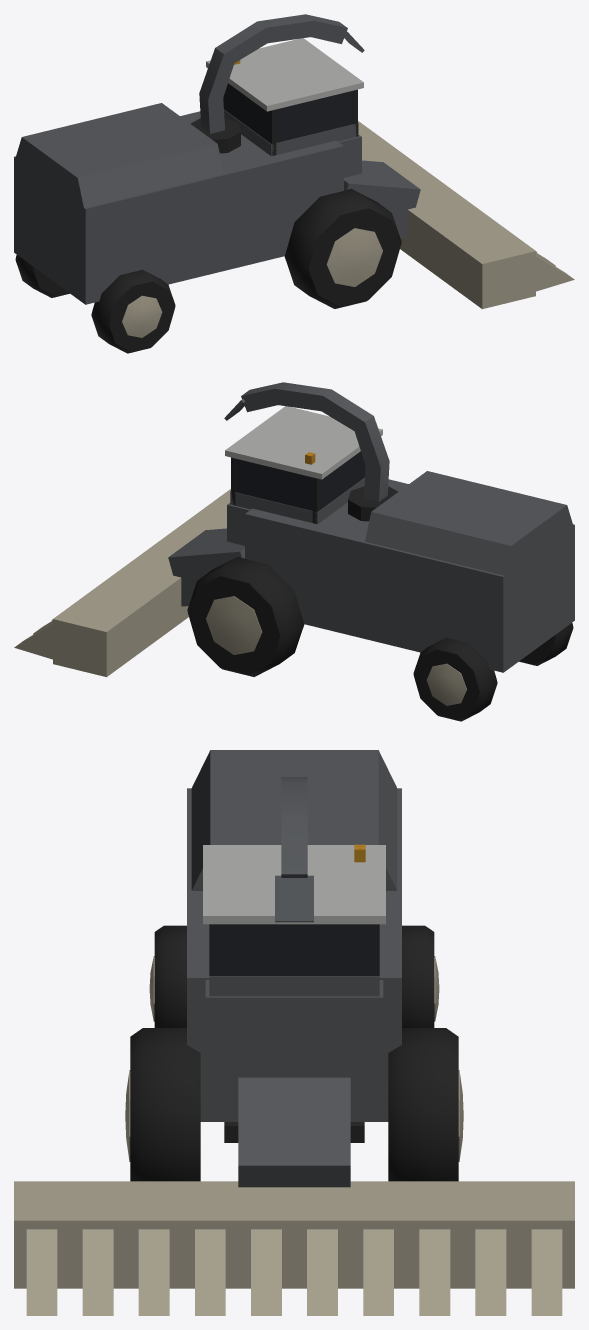
Rendered from SM_Prop_farm_forager_2_LOD1.glb.
3 views of the same model, one above another, from view 1: azimuth 30°, elevation 25°; view 2: azimuth 150°, elevation 25°; view 3: azimuth 270°, elevation 25° (orthographic). The views are drawn at different scales.
Visible parts, largest first — view 1: SM_Prop_farm_forager_2_LOD1; view 2: SM_Prop_farm_forager_2_LOD1; view 3: SM_Prop_farm_forager_2_LOD1.
Part boxes in pixels (x1,y1,x2,y2): SM_Prop_farm_forager_2_LOD1: (14, 14, 574, 353); SM_Prop_farm_forager_2_LOD1: (14, 382, 574, 721); SM_Prop_farm_forager_2_LOD1: (14, 750, 574, 1315).
Size of the model in its own units: 8.1 by 4.51 by 6.
